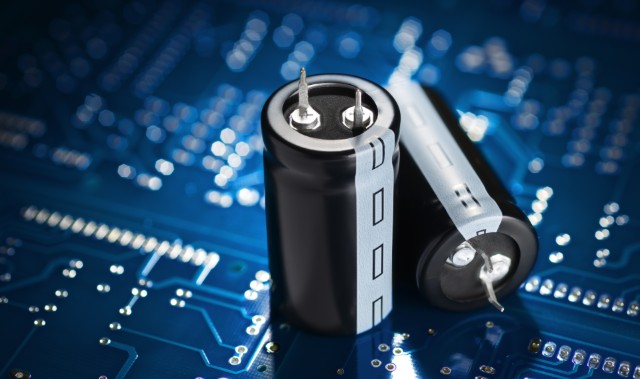capacitor: (382, 69, 560, 345), (250, 53, 412, 343)
